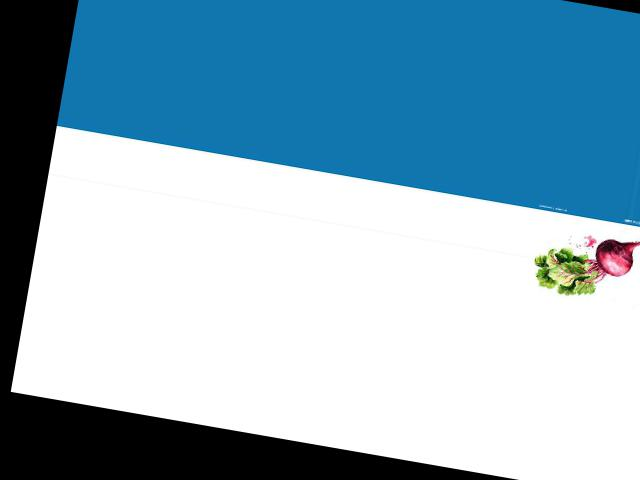beet: (528, 221, 640, 307)
